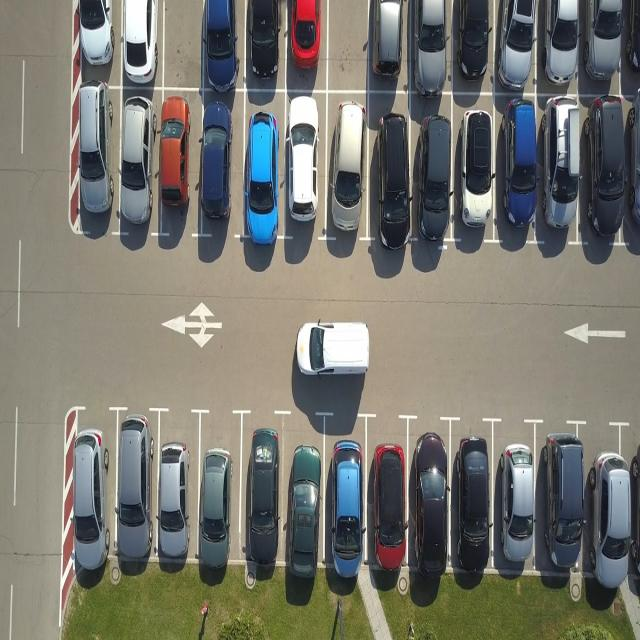space-empty: (325, 2, 373, 92), (162, 0, 208, 88)
space-occupied: (584, 422, 640, 604), (532, 422, 588, 593), (240, 411, 293, 576), (64, 406, 113, 581), (65, 84, 118, 234), (449, 416, 498, 578), (111, 407, 159, 572), (406, 415, 453, 583), (197, 90, 246, 249), (196, 408, 244, 570), (490, 418, 537, 581), (362, 414, 408, 580), (324, 94, 372, 248), (324, 417, 369, 578), (577, 104, 628, 246), (156, 409, 201, 569), (492, 94, 542, 237), (280, 90, 326, 245), (158, 86, 204, 241), (242, 88, 287, 246), (534, 95, 584, 237), (282, 417, 326, 577), (366, 98, 412, 247), (117, 86, 160, 238), (455, 105, 501, 246), (410, 96, 453, 241), (576, 2, 624, 97), (537, 2, 584, 96), (452, 1, 500, 91), (407, 2, 453, 95), (117, 0, 165, 87), (72, 0, 121, 85), (492, 0, 538, 90), (199, 0, 245, 87), (245, 0, 290, 88), (364, 0, 408, 89), (284, 0, 328, 88), (622, 103, 640, 241), (621, 0, 639, 93)
